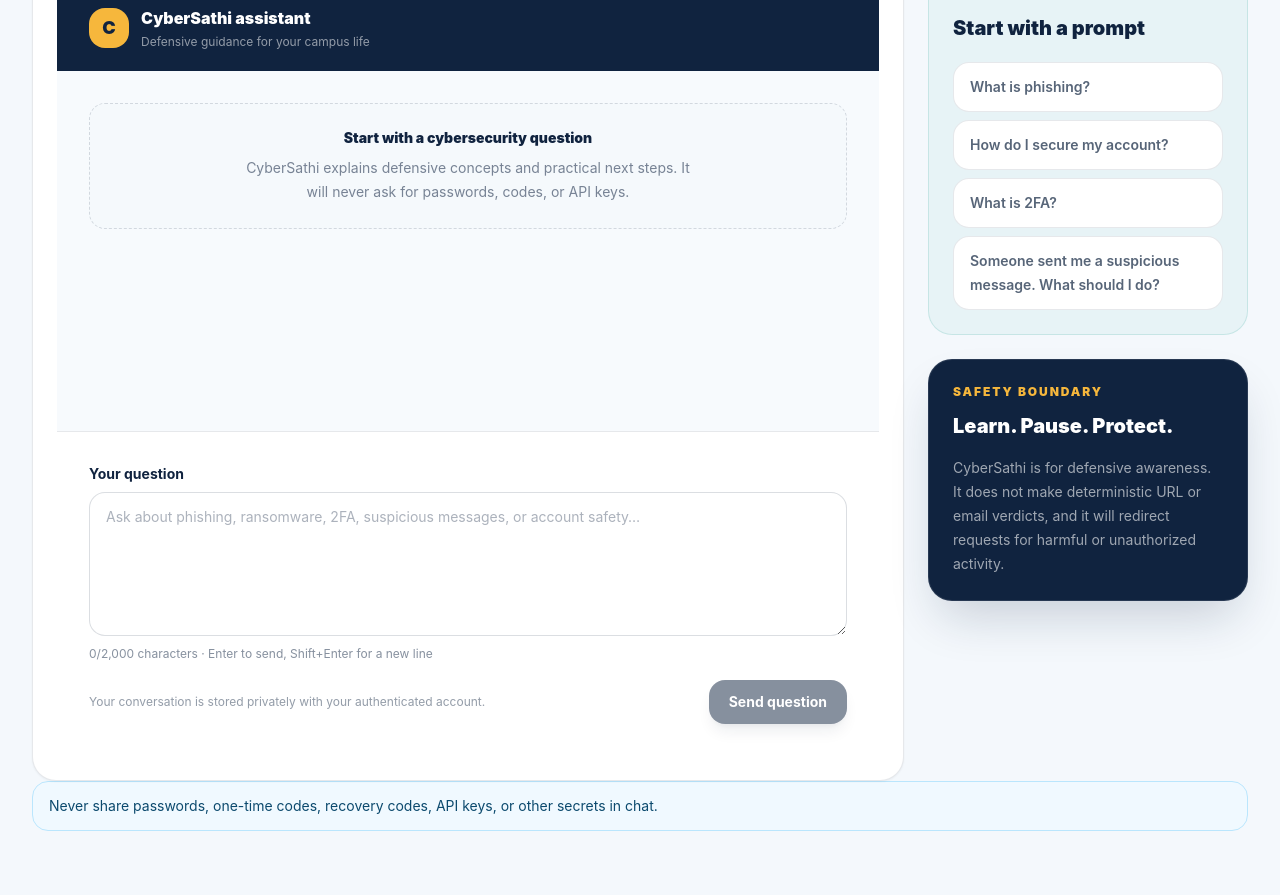
it: CyberSathi chat page › loads history and sends a suggested question through the authenticated API
(page scrolled)
Click the button "What is phishing?": {"x": 1088, "y": 87} [953,62,1223,112]
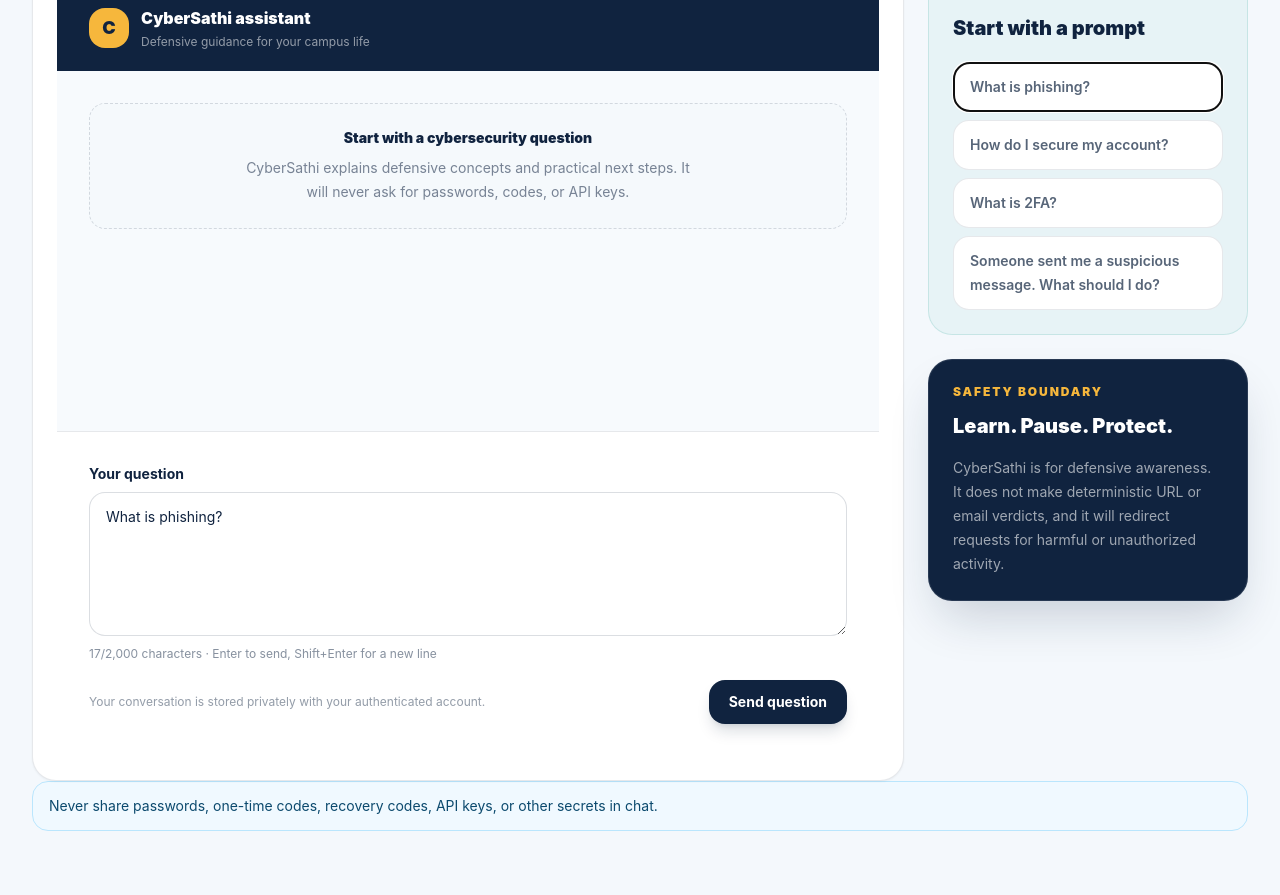
Click the button "Send question": {"x": 778, "y": 702} [709,680,847,724]
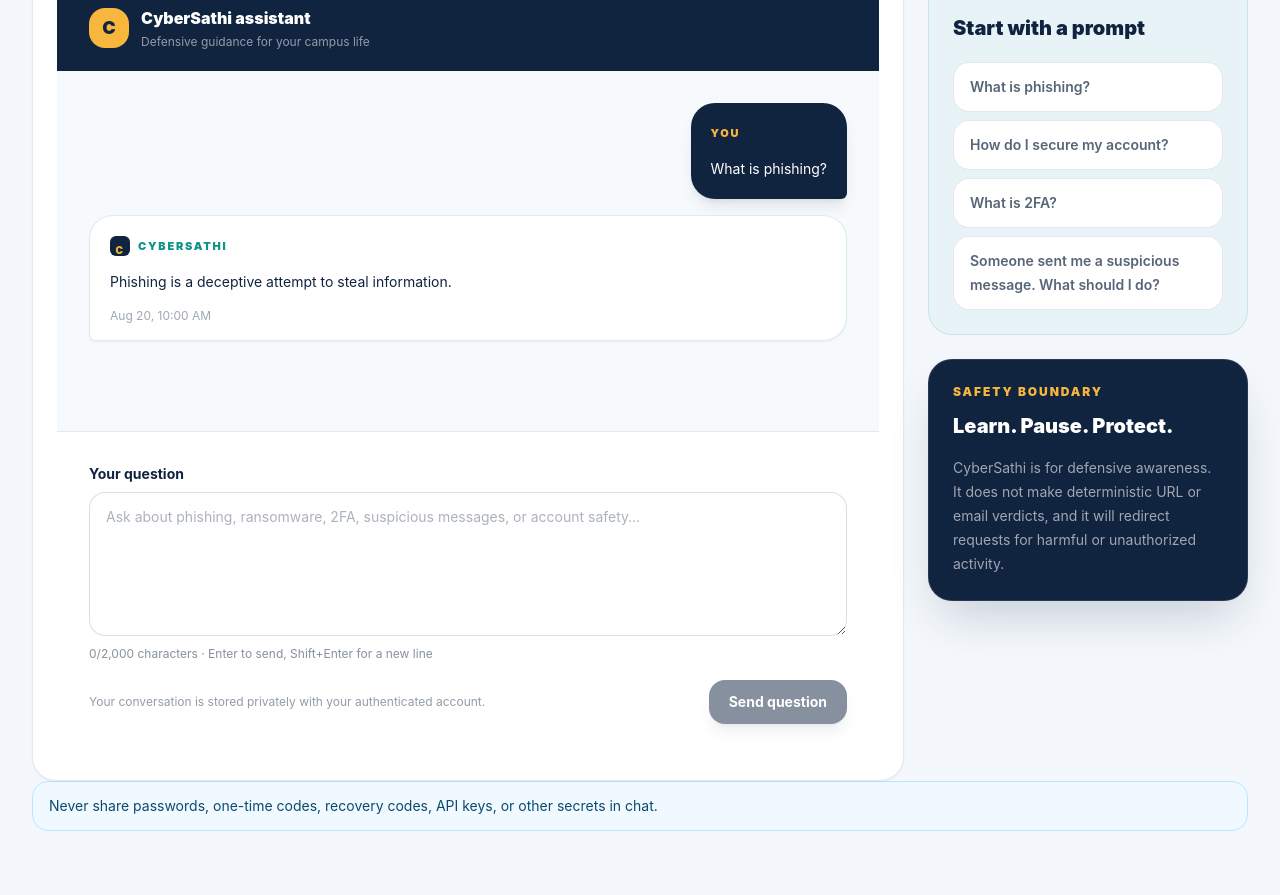
Expected: the text "Phishing is a deceptive attempt to steal information." is shown, [110,273,452,290]
